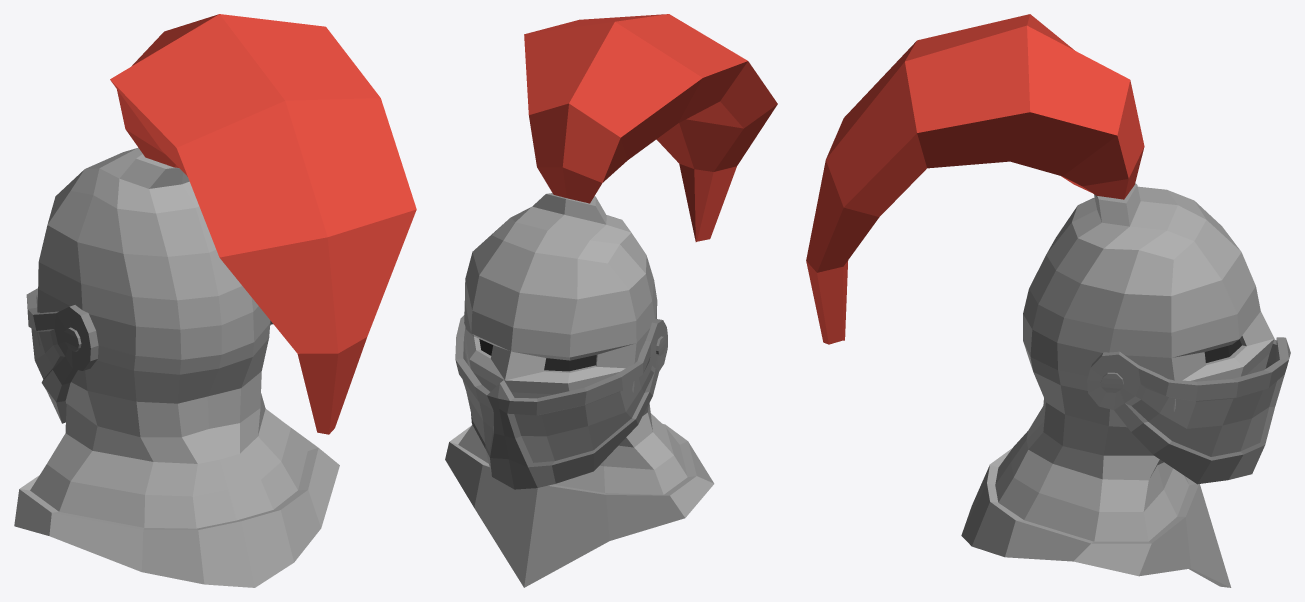
The model's file is KnightHelmet.glb.
3 renders of one model, left to right at view 1: azimuth 30°, elevation 25°; view 2: azimuth 150°, elevation 25°; view 3: azimuth 270°, elevation 25°, orthographic. The views are drawn at different scales.
Visible parts, largest first — view 1: Helmet, Front; view 2: Helmet, Front; view 3: Helmet, Front.
Boxes of the visible parts, x1,y1,x2,y2 form: Helmet: (14, 14, 416, 587); Front: (26, 288, 272, 423); Helmet: (445, 14, 777, 587); Front: (455, 315, 667, 489); Helmet: (806, 14, 1274, 587); Front: (1087, 337, 1290, 484).
Bounding box in the file's own units: 1.16 × 2.31 × 1.8.
